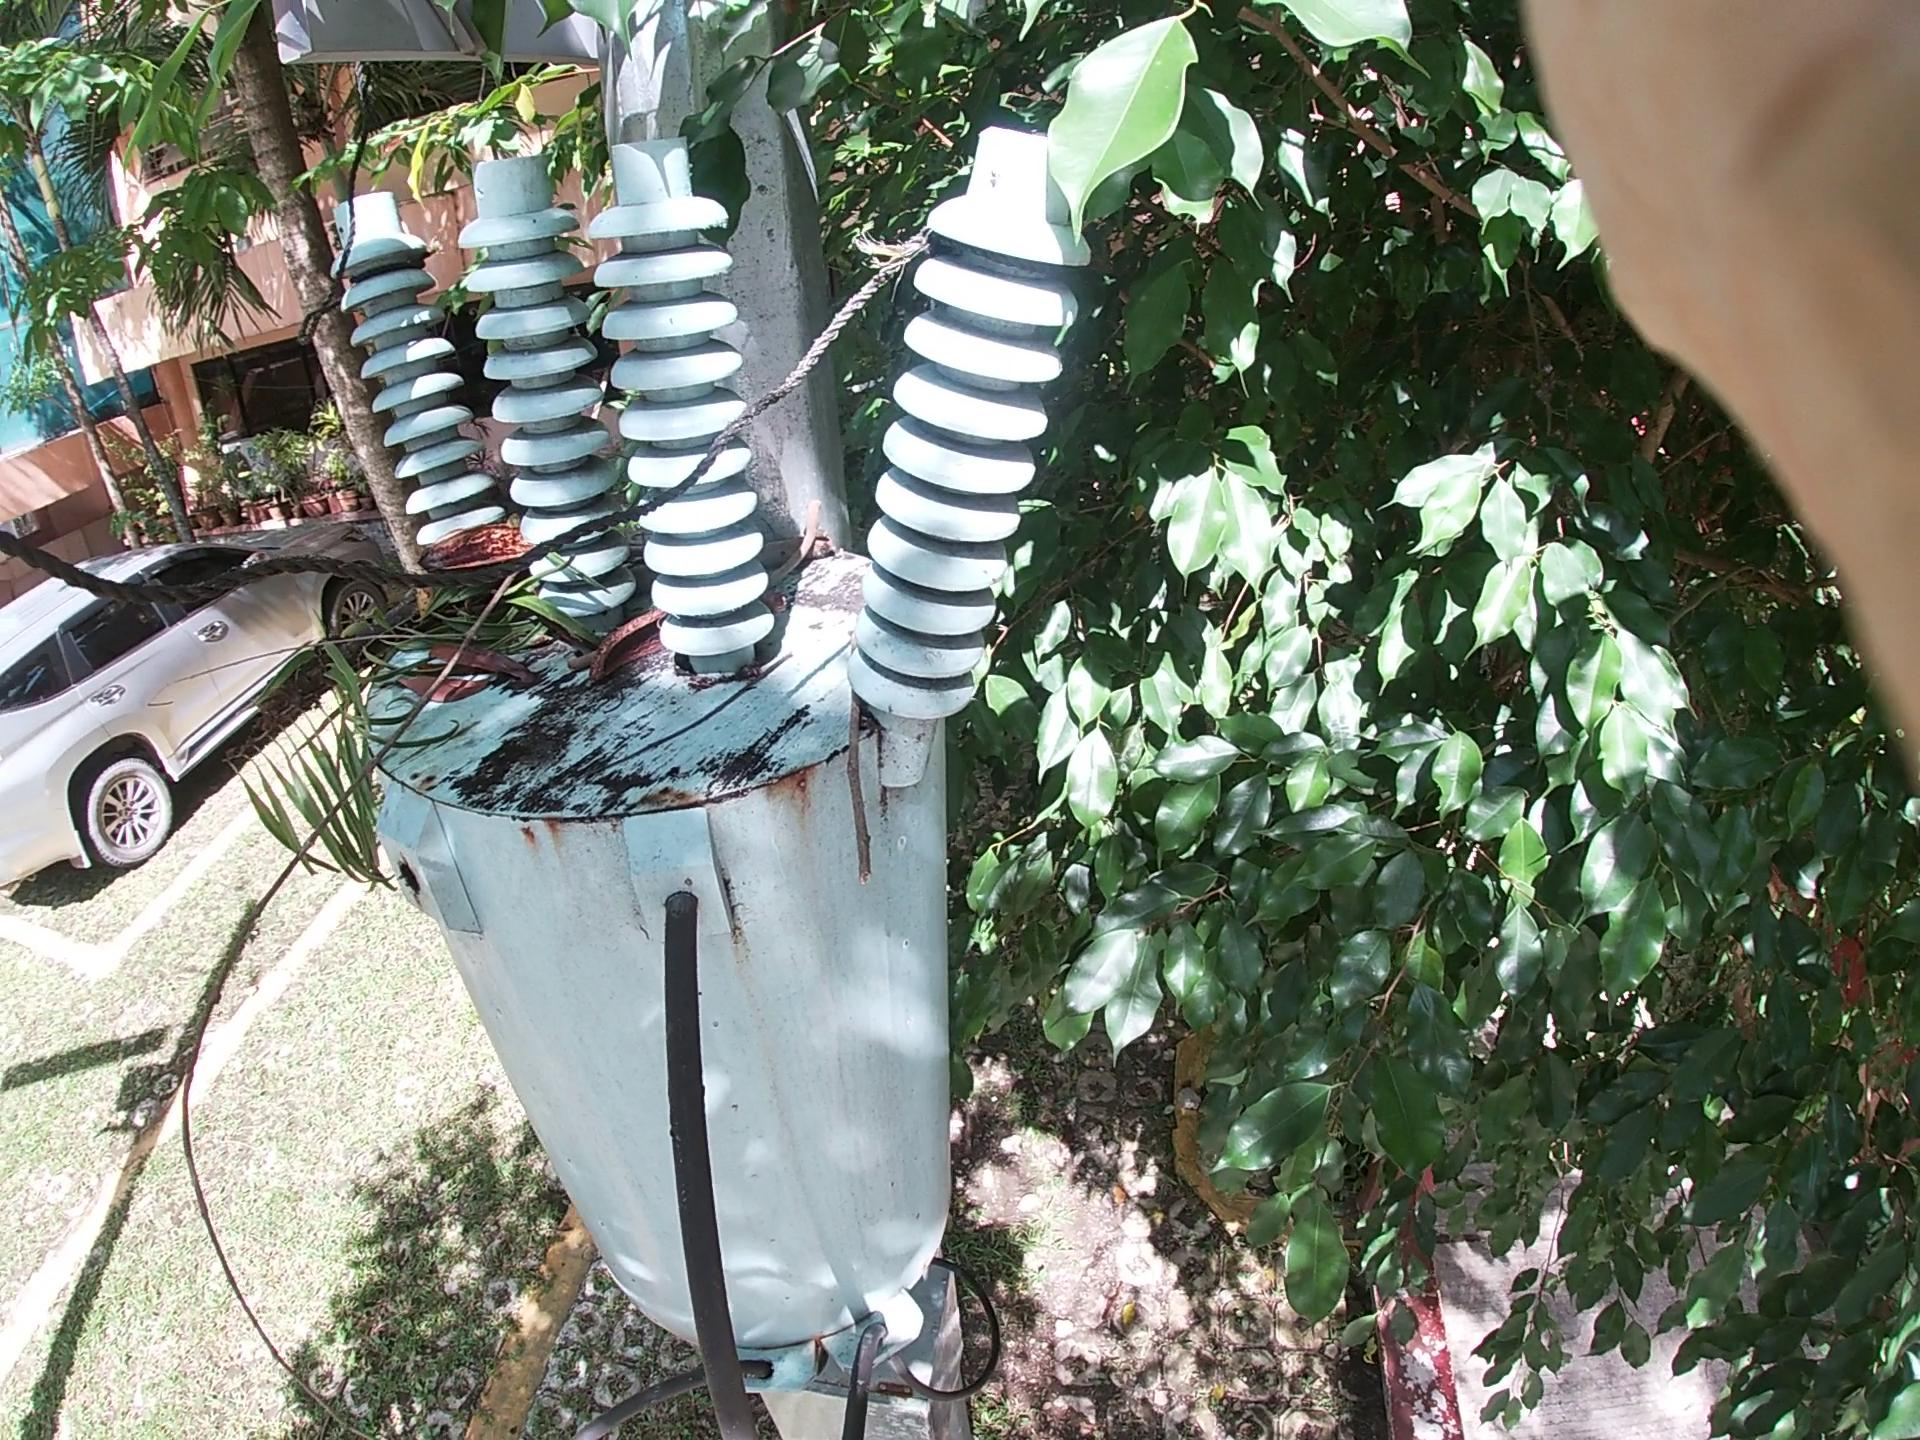branch with leaves: (277, 421, 519, 800)
leaf: (373, 625, 540, 755)
mahogany fruit: (574, 610, 703, 703), (434, 520, 562, 575)
tree branch: (122, 551, 565, 986), (641, 495, 865, 629), (838, 607, 869, 900)
